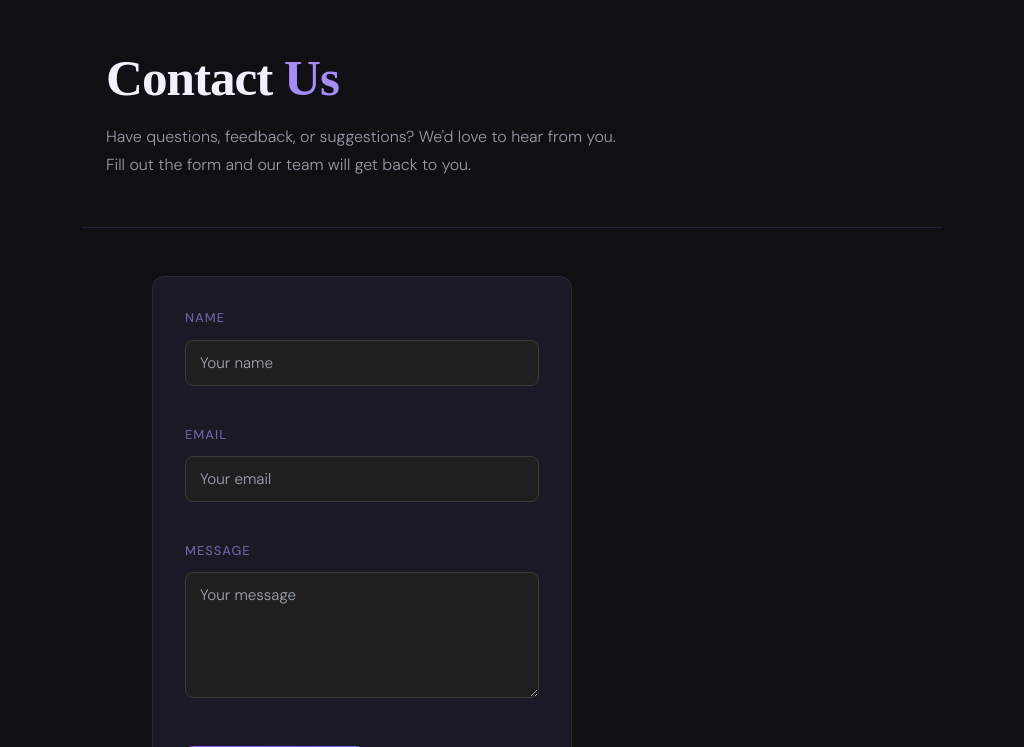
Contact › shows success message on valid submit
The image size is (1024, 747).
Step 1. Type "Alice" into the field labelled "Name" → {"x": 362, "y": 363}, box [185,340,539,386]
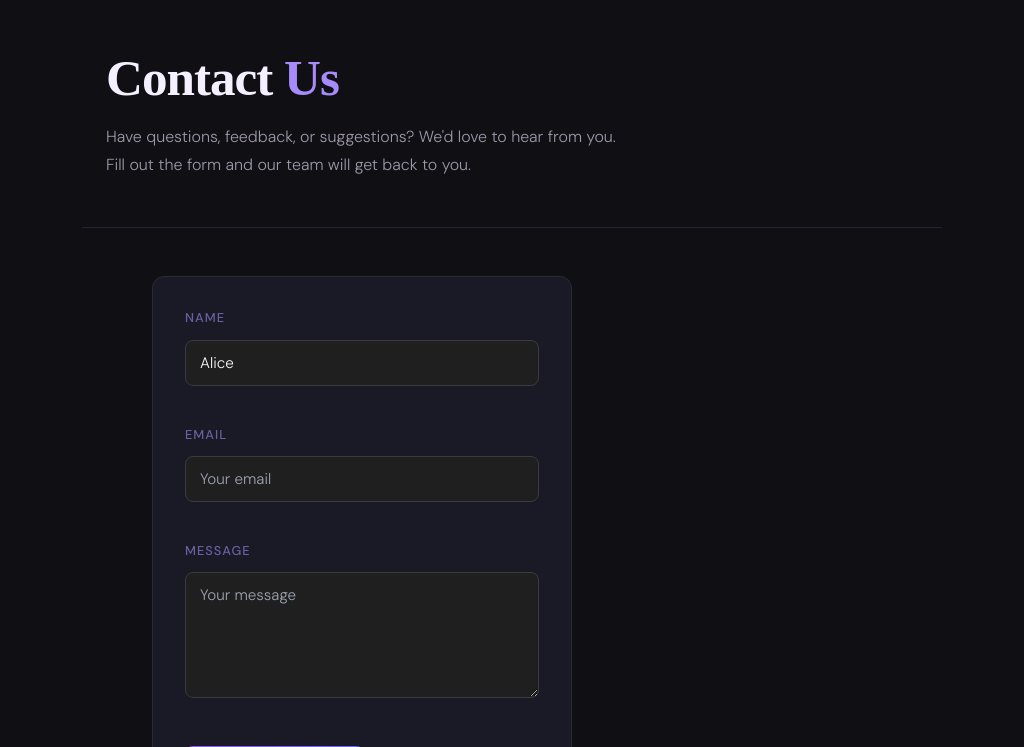
Step 2. Type "alice@example.com" into the field labelled "Email" → {"x": 362, "y": 479}, box [185,456,539,502]
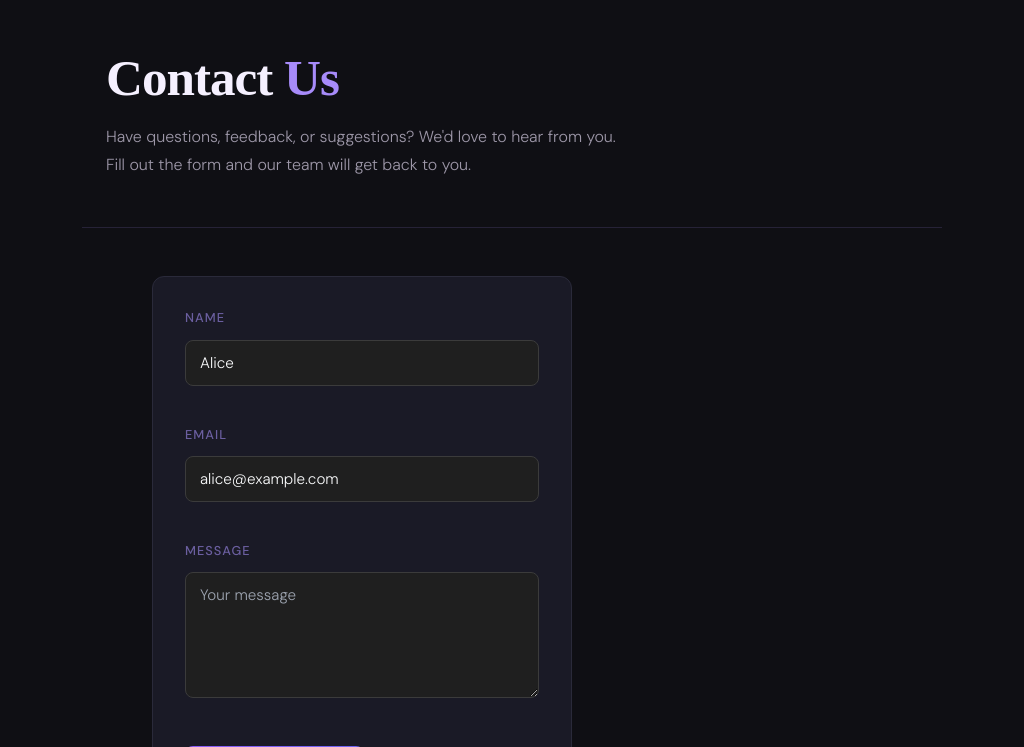
Step 3. Type "Hello there" into the text box labelled "Message" → {"x": 362, "y": 635}, box [185,572,539,698]
(page scrolled)
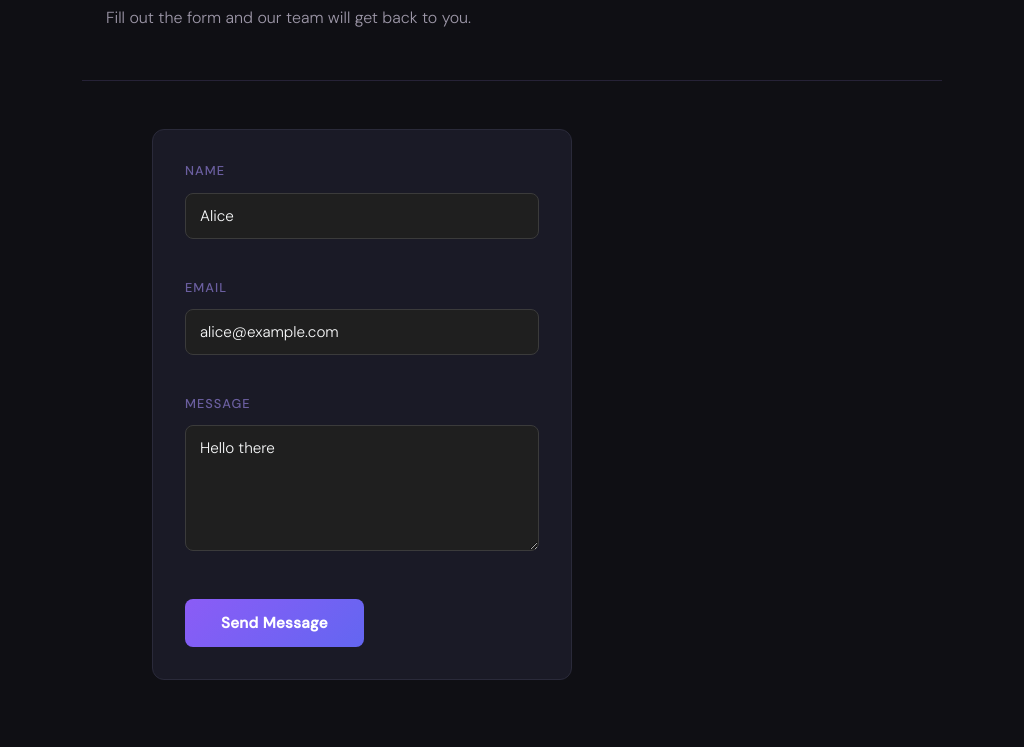
Step 4. Click the button "Send Message" → {"x": 274, "y": 623}, box [185,599,364,647]
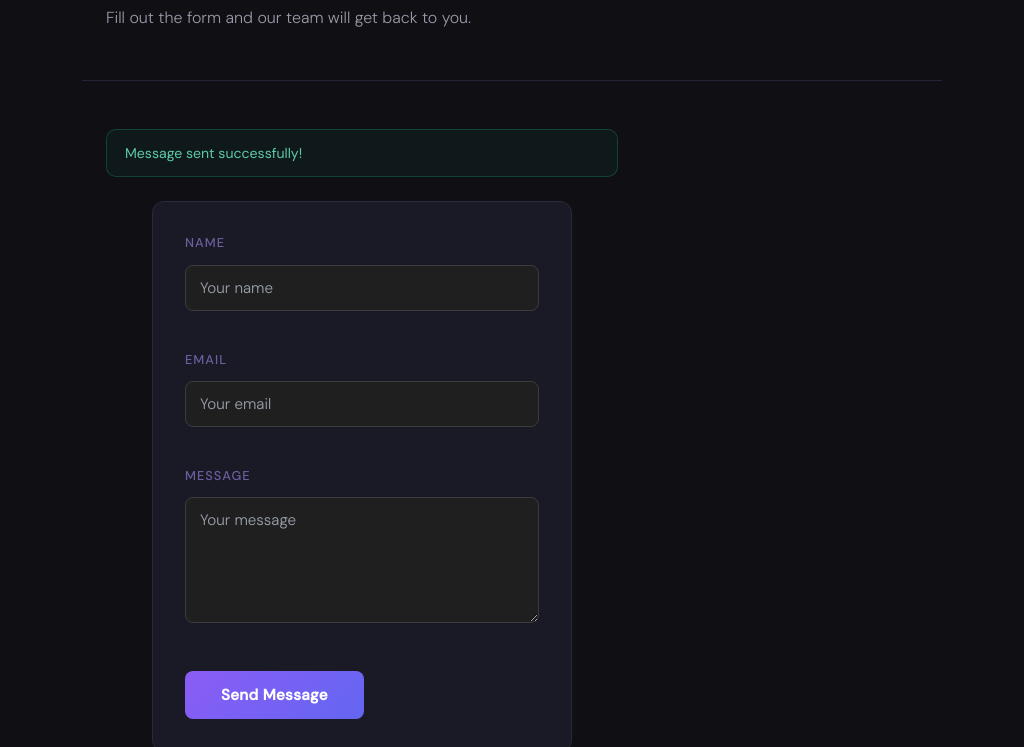
Expected: the text "Message sent successfully!" is shown, [106,129,618,177]
